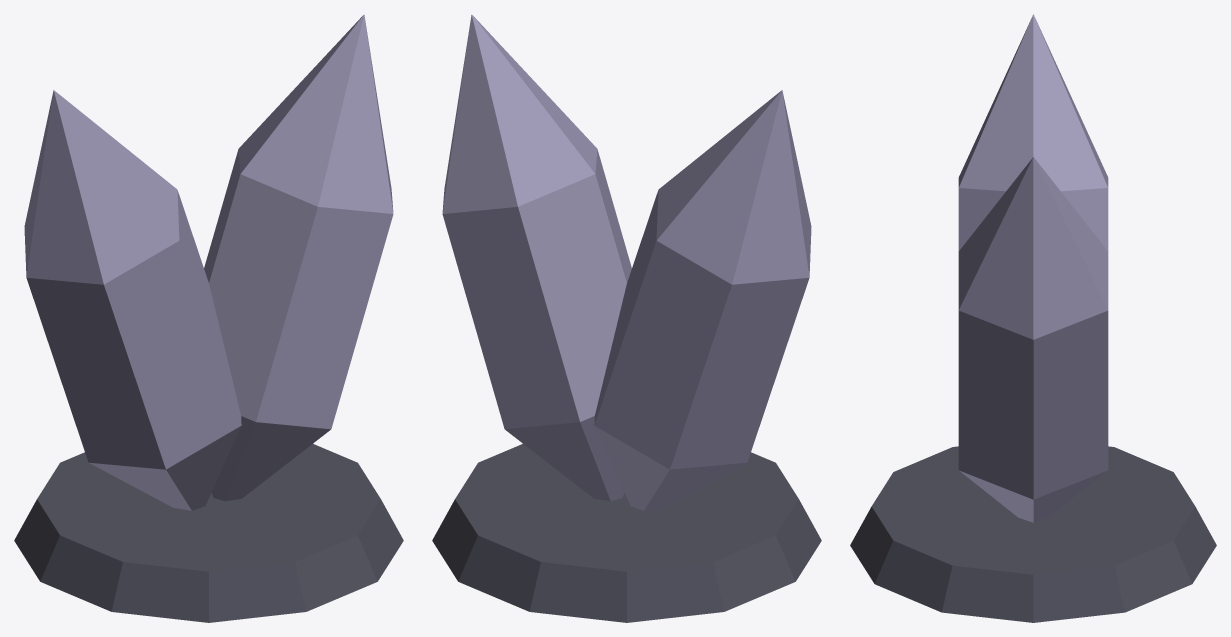
The model's file is pu-double.glb.
The picture shows the model from 3 angles, left to right: view 1: azimuth 30°, elevation 25°; view 2: azimuth 150°, elevation 25°; view 3: azimuth 270°, elevation 25°; orthographic projection. The views are drawn at different scales.
Visible parts, largest first — view 1: PU_double; view 2: PU_double; view 3: PU_double.
Boxes of the visible parts, x1=… form: PU_double: x1=14, y1=14, x2=403, y2=622; PU_double: x1=432, y1=14, x2=821, y2=622; PU_double: x1=850, y1=14, x2=1216, y2=622.
Size of the model in its own units: 0.7356 by 0.9408 by 0.68.
